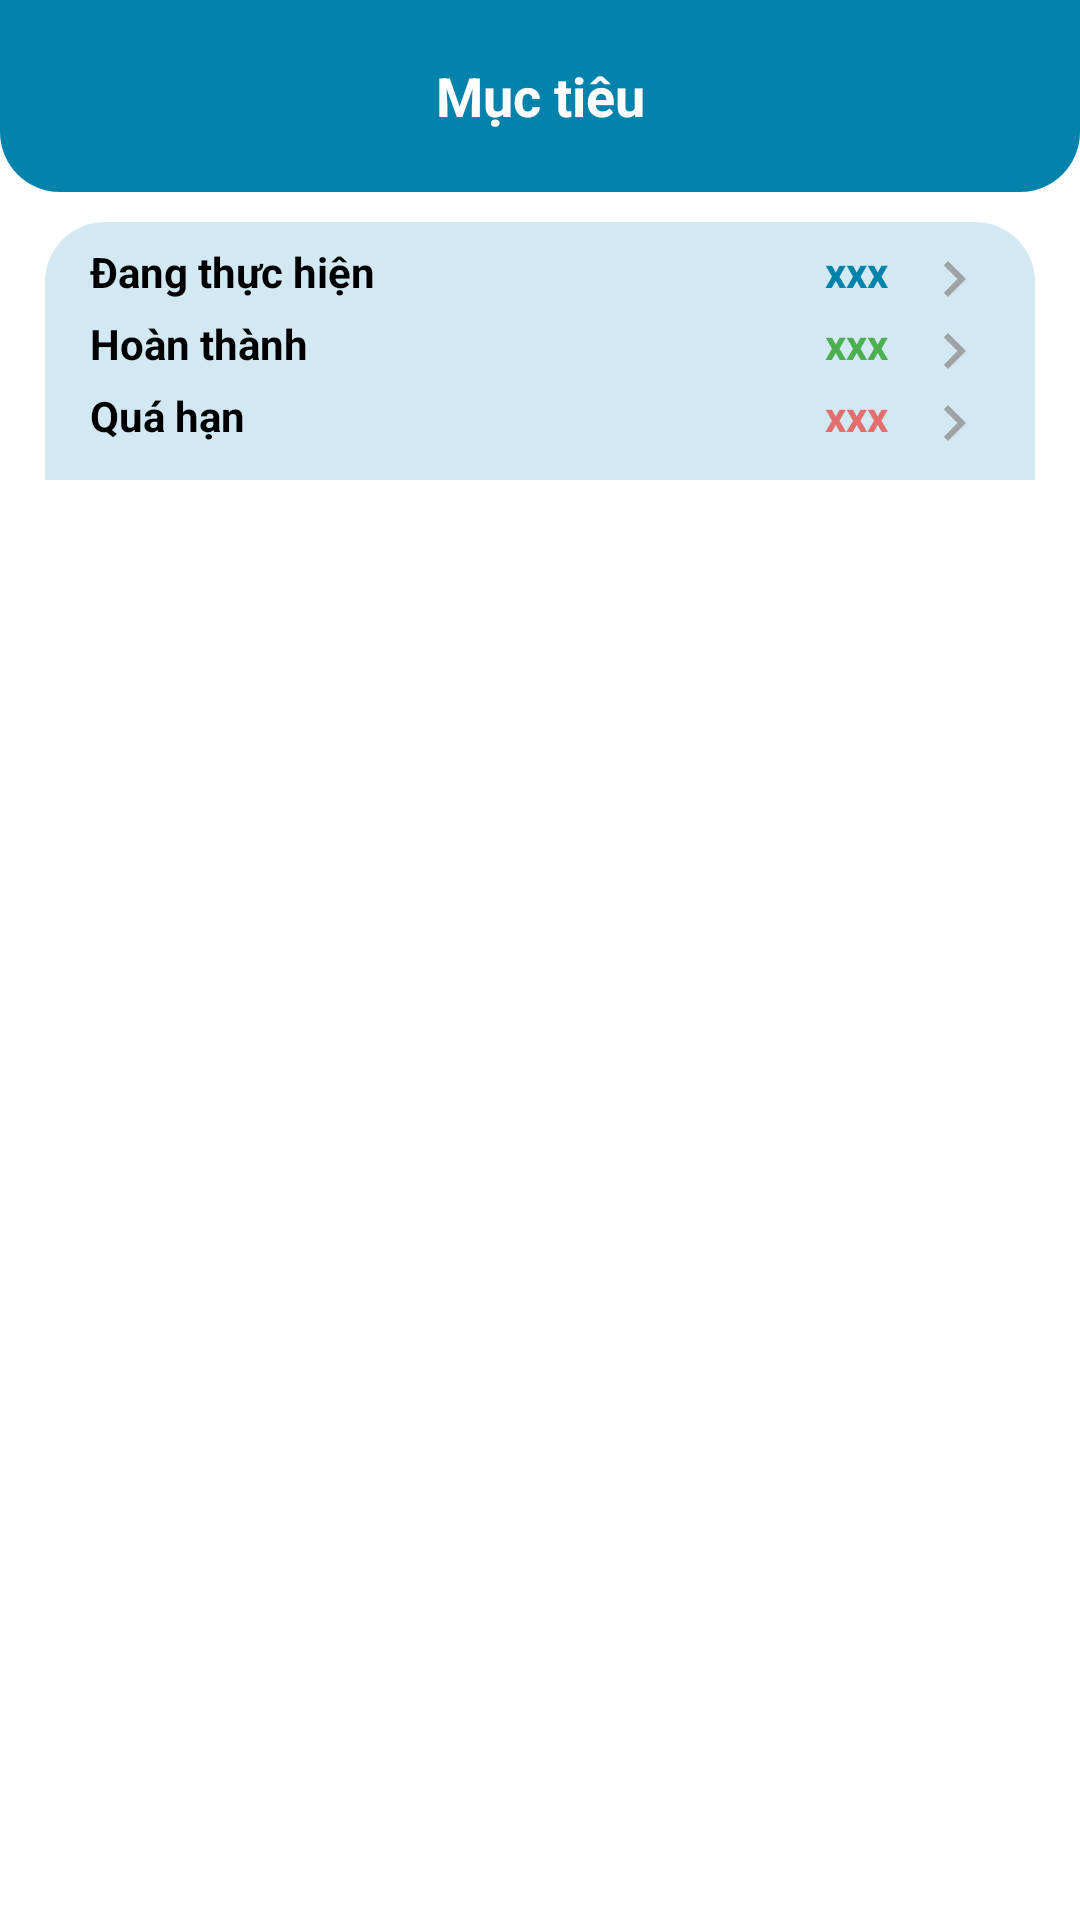

Named icons in this screenshot (1080×1920) and their bounding boxes, (x1, y1, x2, y2):
next: (944, 261, 966, 297), (944, 333, 966, 369), (944, 405, 966, 441)
